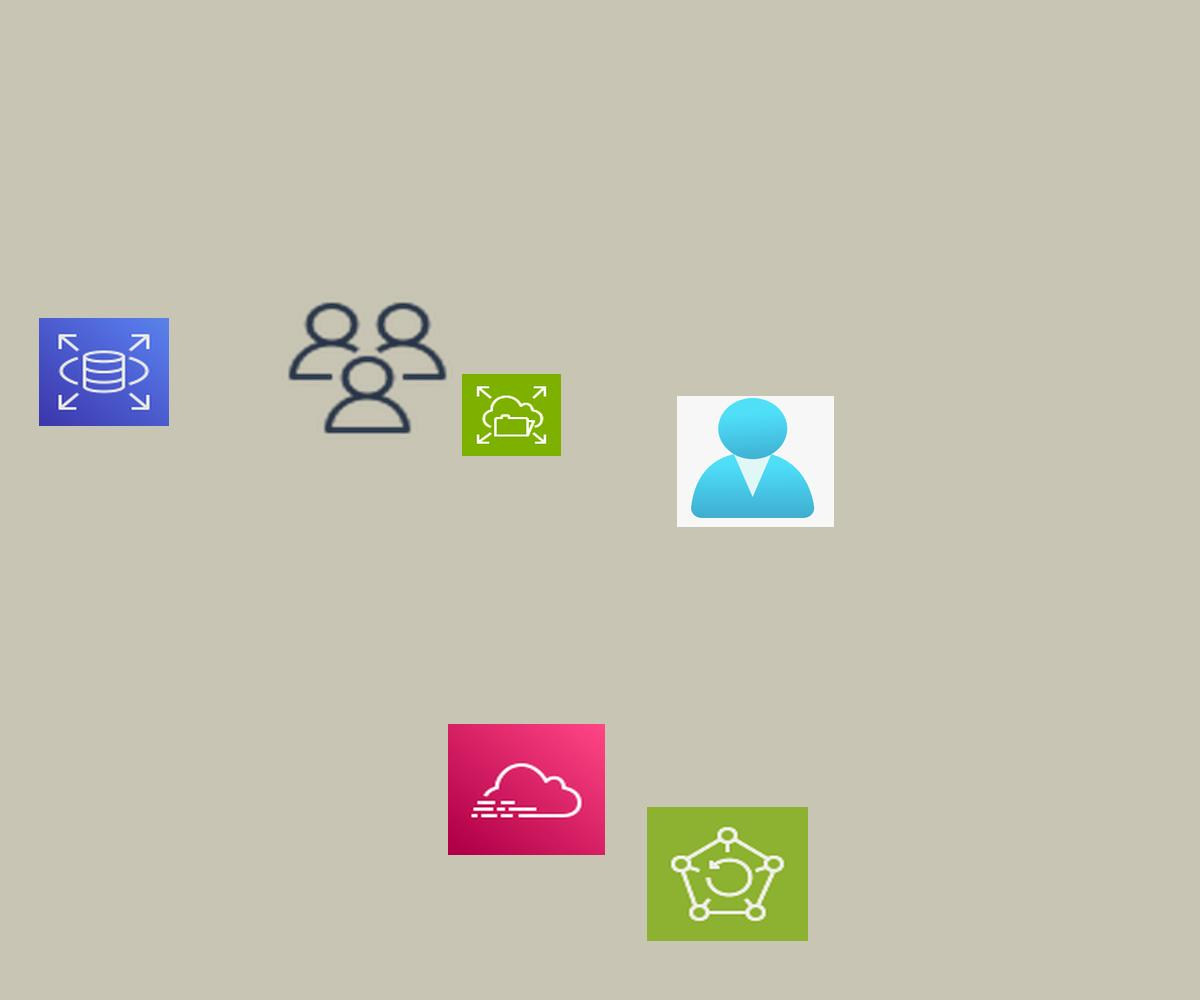AWS-Backup: (647, 807, 808, 941)
AWS-CloudTrail: (448, 724, 605, 855)
AWS-EFS: (462, 374, 561, 456)
AWS-RDS: (39, 318, 169, 426)
AWS-Res_Users: (282, 297, 453, 439)
Azure_users: (677, 396, 834, 527)
